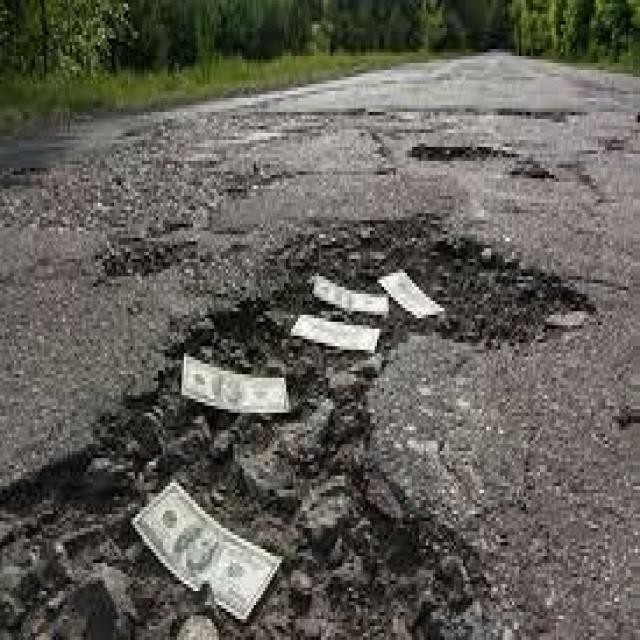Pothole: (2, 185, 605, 626), (391, 88, 586, 192)
